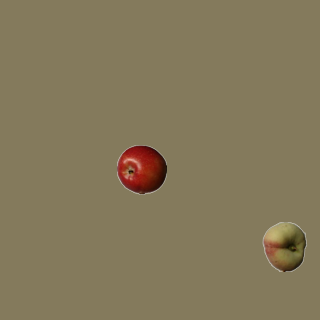Apple Braeburn: (116, 144, 166, 194)
Peach Flat: (259, 221, 309, 271)
